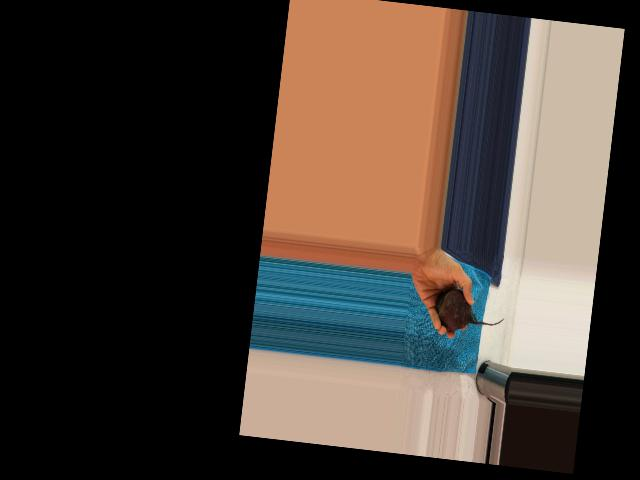beet: (431, 287, 506, 337)
